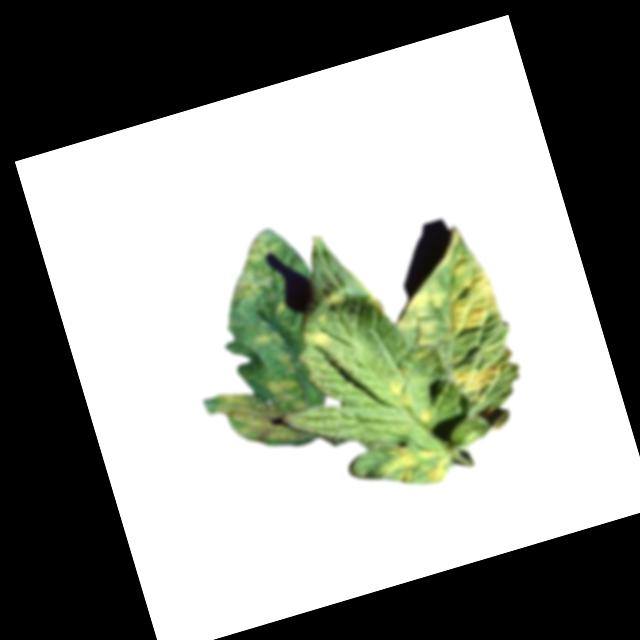Leaf_Mold: (376, 227, 508, 354), (214, 368, 318, 465), (373, 432, 455, 499), (217, 232, 289, 303), (448, 353, 505, 396), (385, 370, 416, 412), (301, 324, 339, 350), (321, 285, 353, 315), (412, 399, 441, 432), (252, 326, 285, 352), (273, 298, 291, 315)
